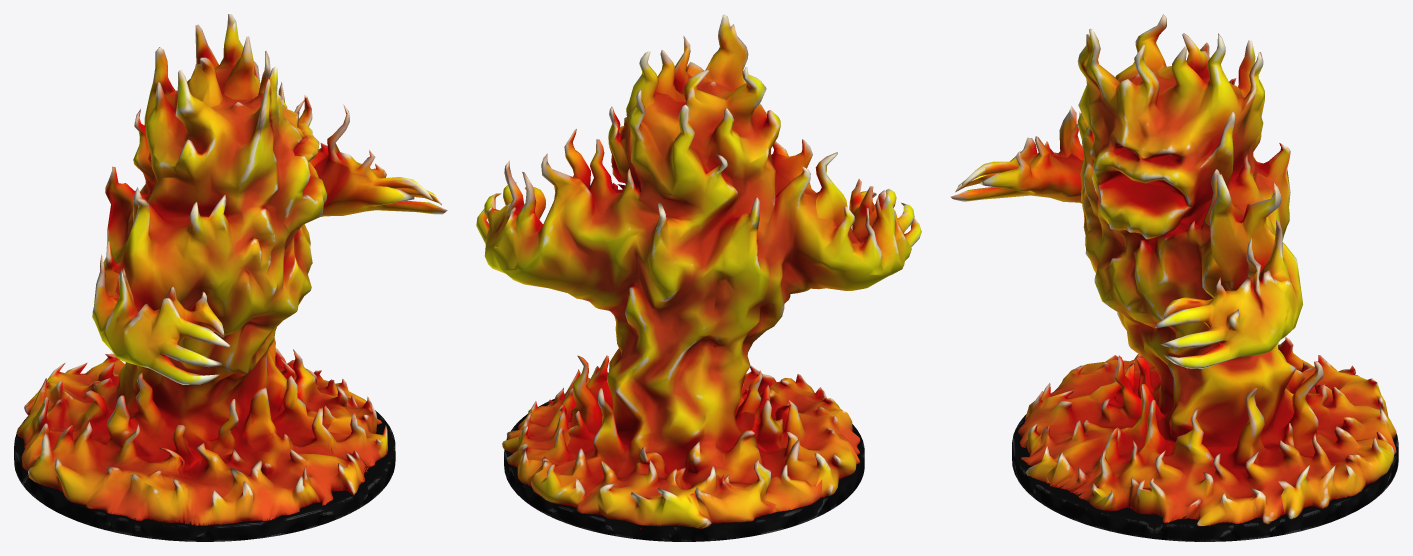
The model's file is MZ4250 - Fire Elemental.glb.
3 renders of one model, left to right at view 1: azimuth 30°, elevation 25°; view 2: azimuth 150°, elevation 25°; view 3: azimuth 270°, elevation 25°, orthographic. The views are drawn at different scales.
Visible parts, largest first — view 1: Fire_Elemental_Updated.001, Fire_Elemental_Updated.003; view 2: Fire_Elemental_Updated.001, Fire_Elemental_Updated.003; view 3: Fire_Elemental_Updated.001, Fire_Elemental_Updated.003.
Part boxes in pixels (left/top/right/bottom): Fire_Elemental_Updated.001: left=16, top=14, right=447, bottom=525; Fire_Elemental_Updated.003: left=14, top=410, right=395, bottom=541; Fire_Elemental_Updated.001: left=476, top=14, right=921, bottom=527; Fire_Elemental_Updated.003: left=502, top=399, right=864, bottom=541; Fire_Elemental_Updated.001: left=950, top=14, right=1396, bottom=525; Fire_Elemental_Updated.003: left=1012, top=414, right=1398, bottom=541.
Bounding box in the file's own units: 9.6 × 10.2 × 9.39.
1 material, 1 textured.
